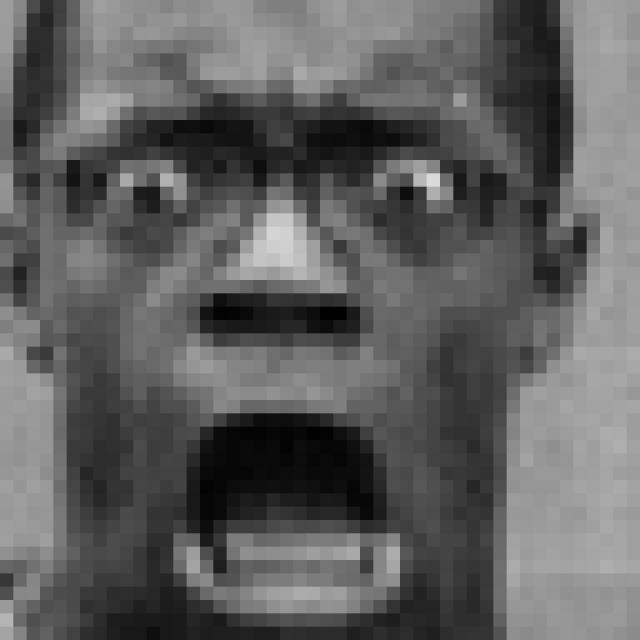fear: (65, 49, 492, 640)
